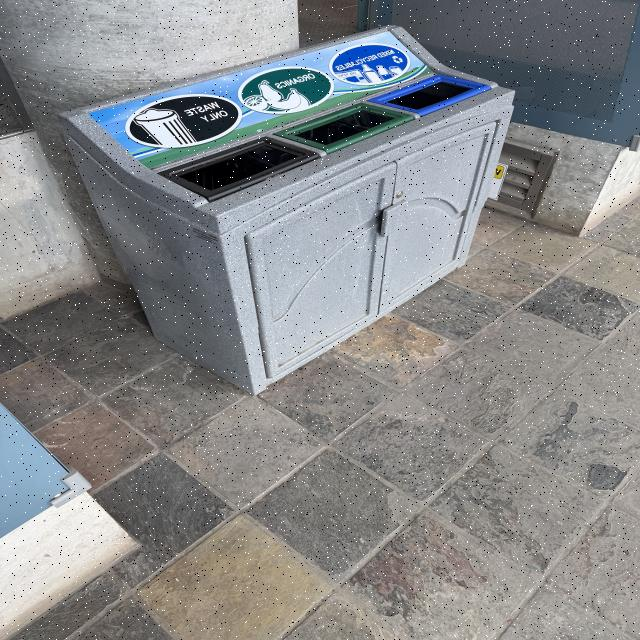Dustbin: (61, 24, 522, 396)
